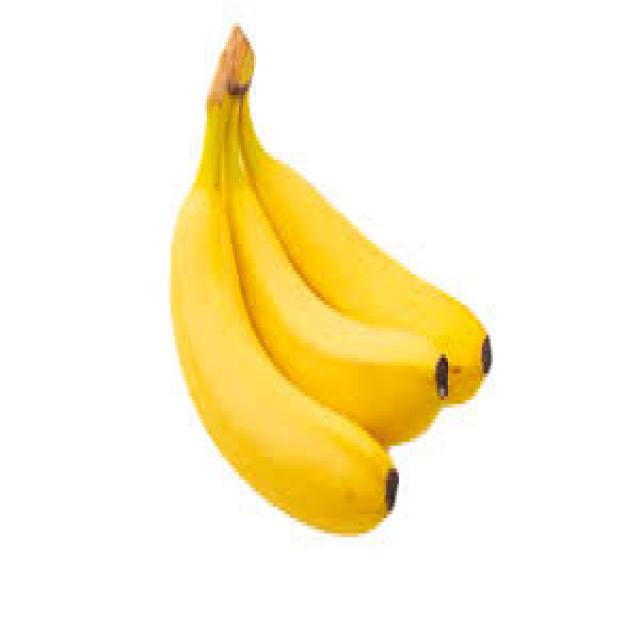banana: (168, 19, 491, 537)
